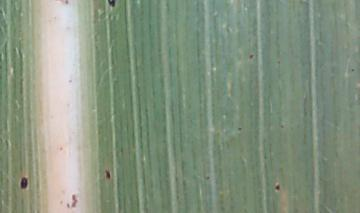tarspot: (102, 166, 113, 180), (19, 175, 29, 190), (70, 192, 78, 209), (105, 1, 117, 8), (247, 52, 255, 62), (273, 183, 281, 192), (65, 202, 72, 210), (57, 145, 65, 152), (236, 126, 243, 132), (279, 123, 285, 130), (66, 78, 73, 84), (275, 59, 281, 65), (63, 1, 70, 6), (350, 67, 355, 72), (204, 175, 207, 182)
